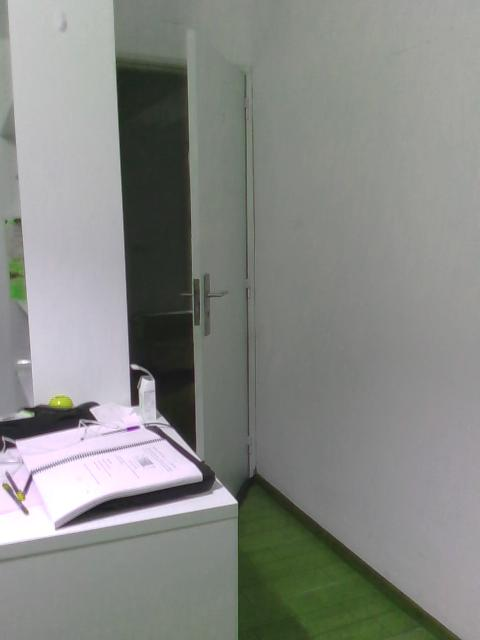semi_door: (107, 27, 253, 504)
